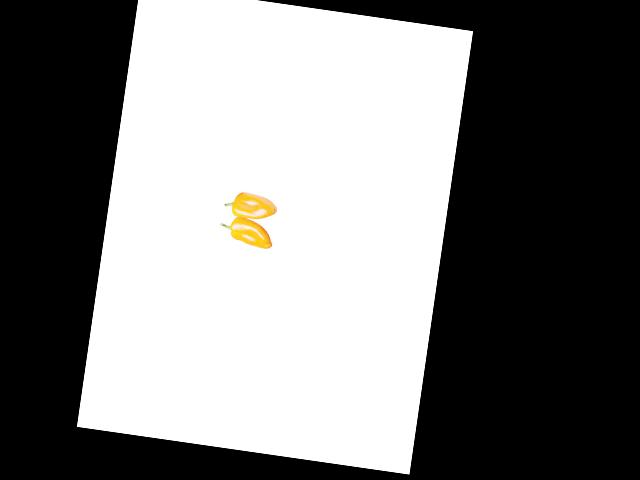bell_pepper: (221, 184, 290, 225)
